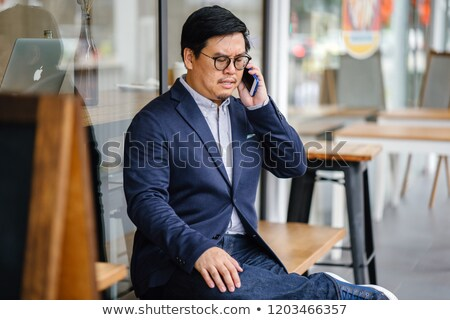phone: (239, 65, 261, 99)
talk: (206, 38, 270, 107)
